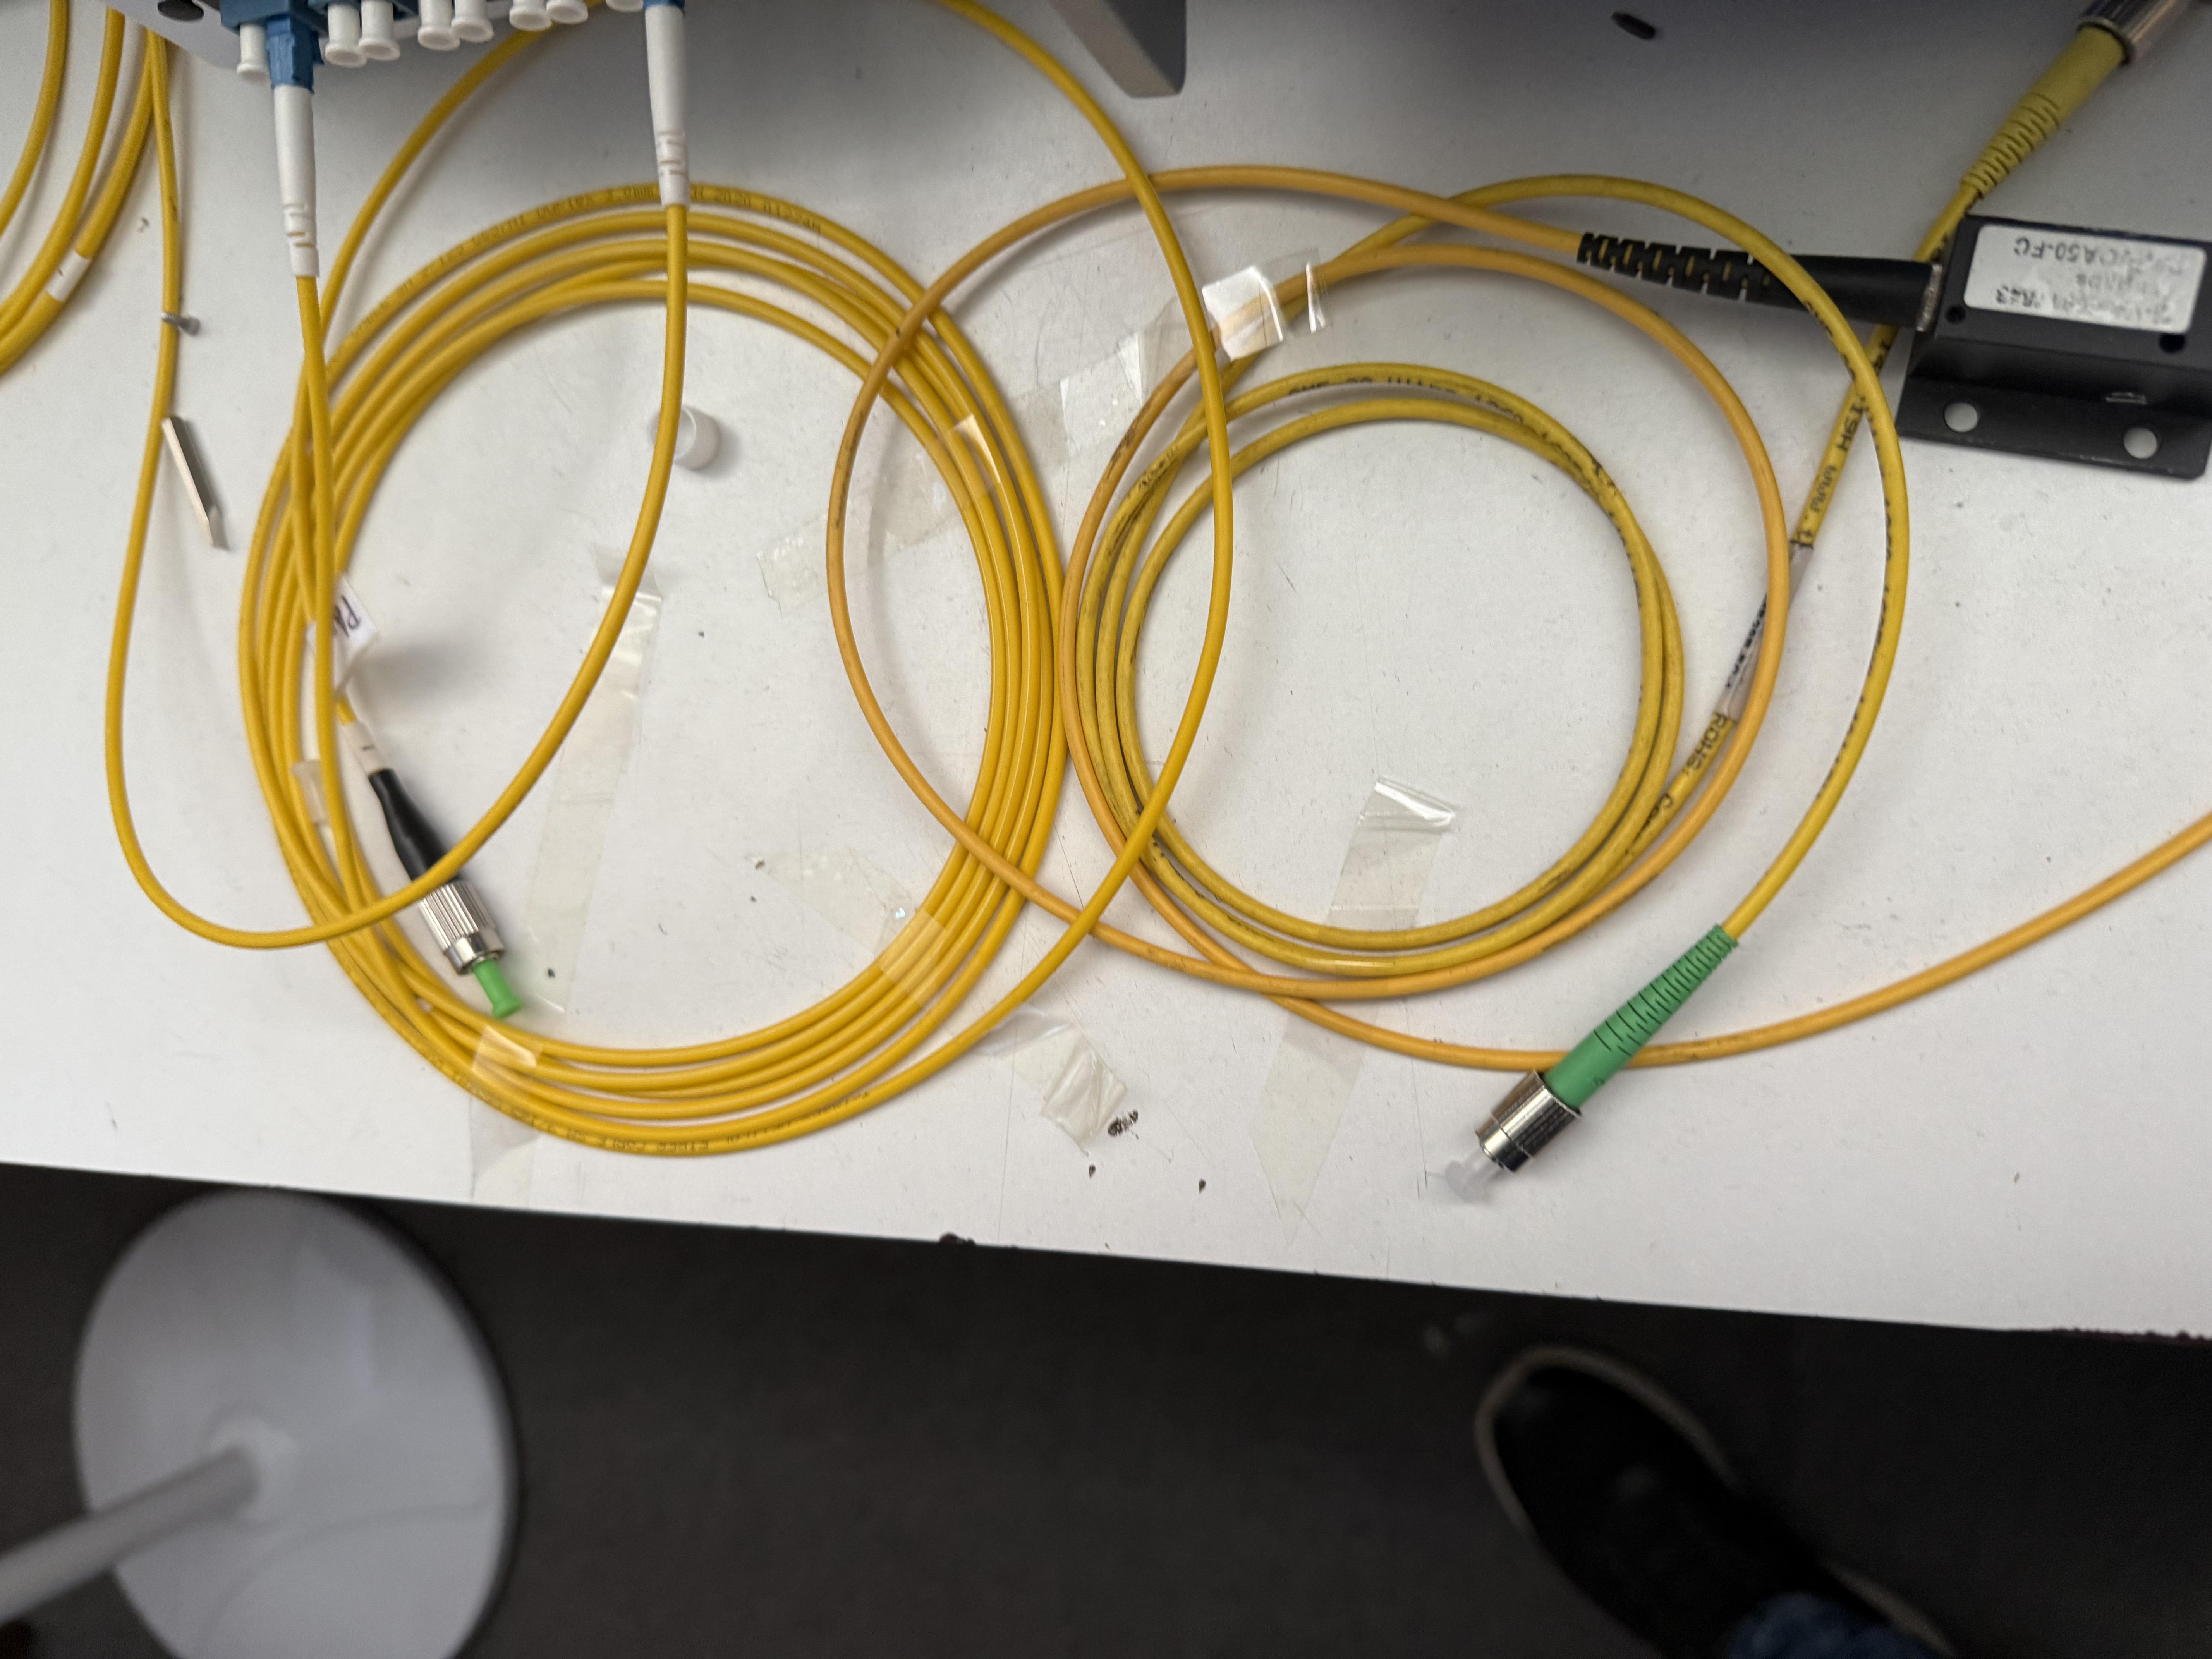fiber_cable: (138, 52, 2074, 1223)
